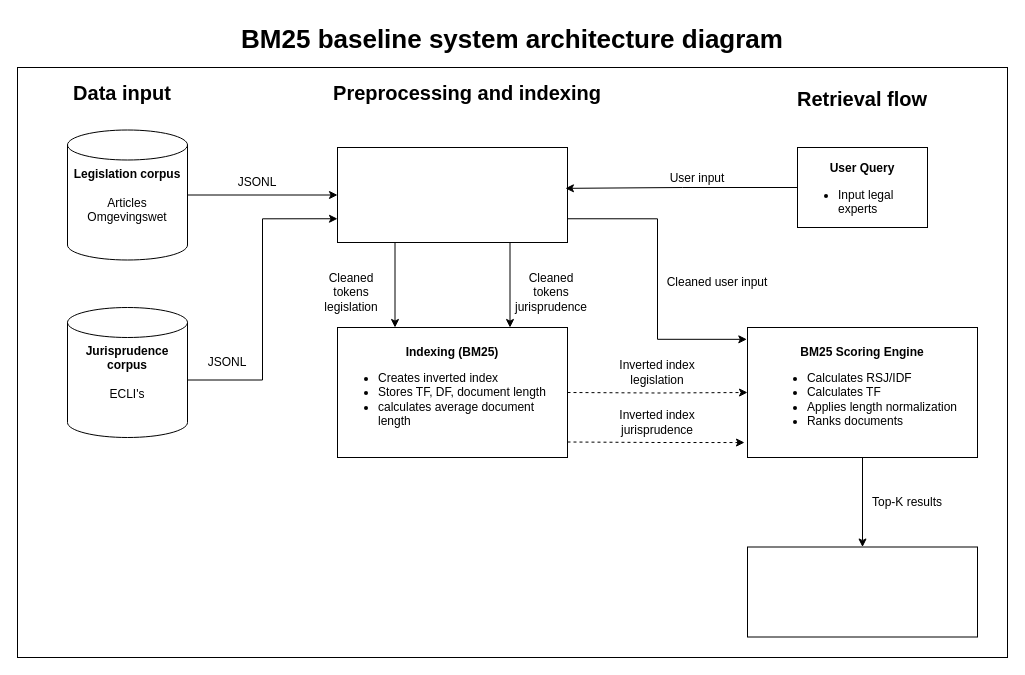
Some shapes in this 1025 by 675 pixel diagram are drawn without their labels. Each missing label, with the centre of its shape:
"Output Ranked List of ECLIs Snippets and article numbers" goes at (x=862, y=591).
"Tokenization and cleaning lowercasing stopword removal stemming" goes at (x=452, y=194).
